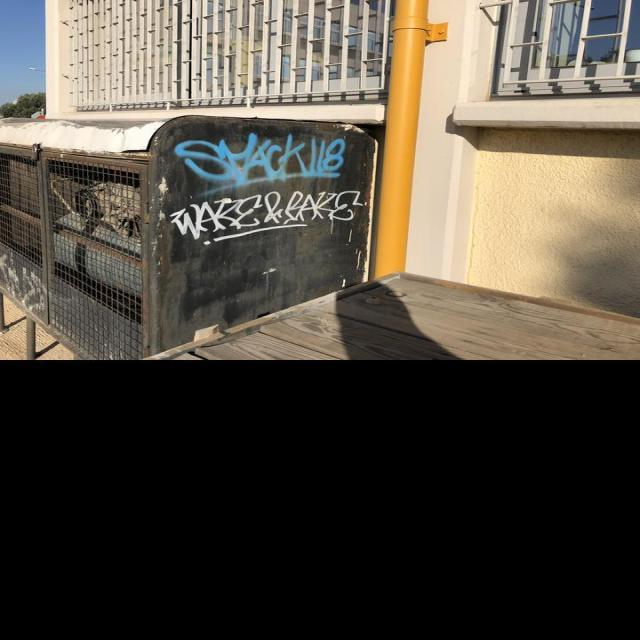nonspitting: (169, 189, 365, 248), (173, 132, 346, 188)
